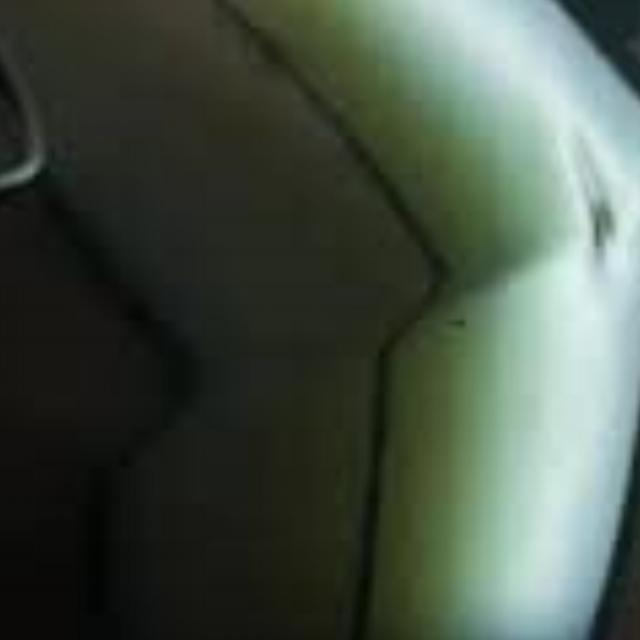dents: (541, 121, 640, 322)
